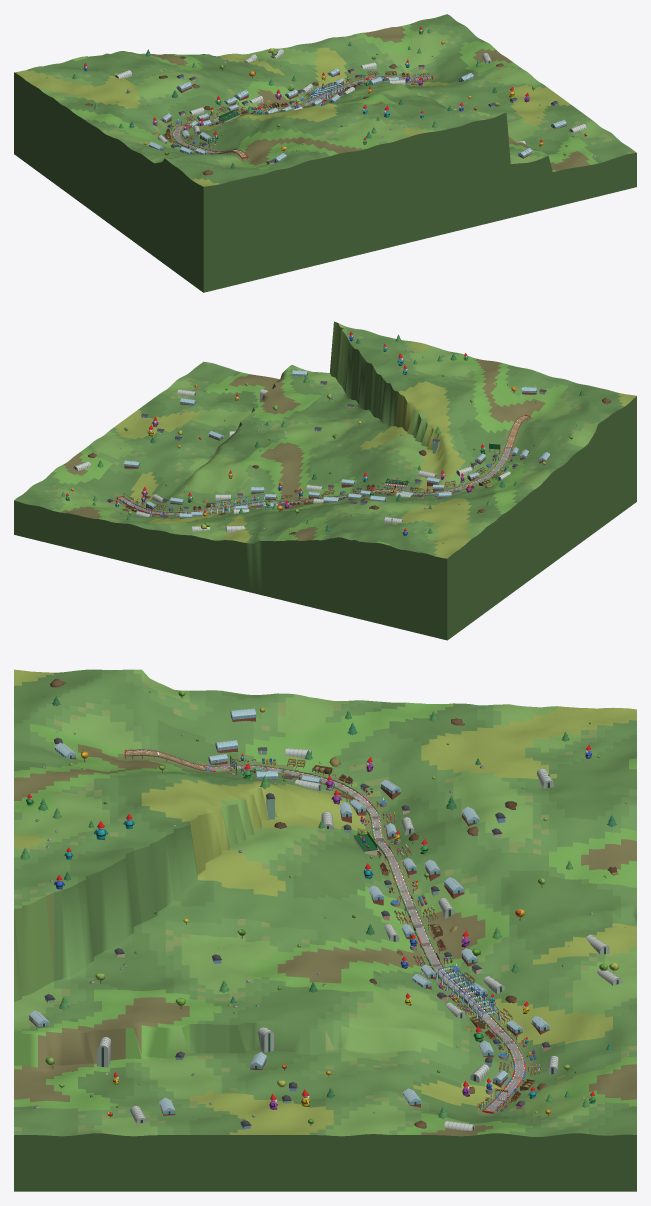
3 renders of one model, top to bottom at view 1: azimuth 30°, elevation 25°; view 2: azimuth 150°, elevation 25°; view 3: azimuth 270°, elevation 25°, orthographic. The views are drawn at different scales.
Visible parts, largest first — view 1: grass, buildings, theme, hay, pines, road; view 2: grass, buildings, hay, road, theme, pines; view 3: grass, buildings, road, hay, theme, pines, markings.
Part boxes in pixels (left/top/right/bottom): grass: left=14, top=14, right=636, bottom=292; buildings: left=83, top=26, right=586, bottom=175; theme: left=168, top=70, right=433, bottom=150; hay: left=172, top=75, right=433, bottom=158; pines: left=72, top=28, right=497, bottom=168; road: left=173, top=76, right=431, bottom=157; grass: left=14, top=321, right=636, bottom=640; buildings: left=65, top=331, right=611, bottom=535; hay: left=116, top=414, right=530, bottom=515; road: left=118, top=415, right=528, bottom=514; theme: left=115, top=449, right=512, bottom=517; pines: left=61, top=334, right=583, bottom=533; grass: left=14, top=669, right=636, bottom=1191; buildings: left=26, top=678, right=622, bottom=1130; road: left=125, top=750, right=524, bottom=1111; hay: left=124, top=749, right=525, bottom=1113; theme: left=213, top=758, right=539, bottom=1111; pines: left=20, top=696, right=616, bottom=1118; markings: left=126, top=750, right=524, bottom=1110.
Size of the model in its own units: 515 by 133 by 390.
